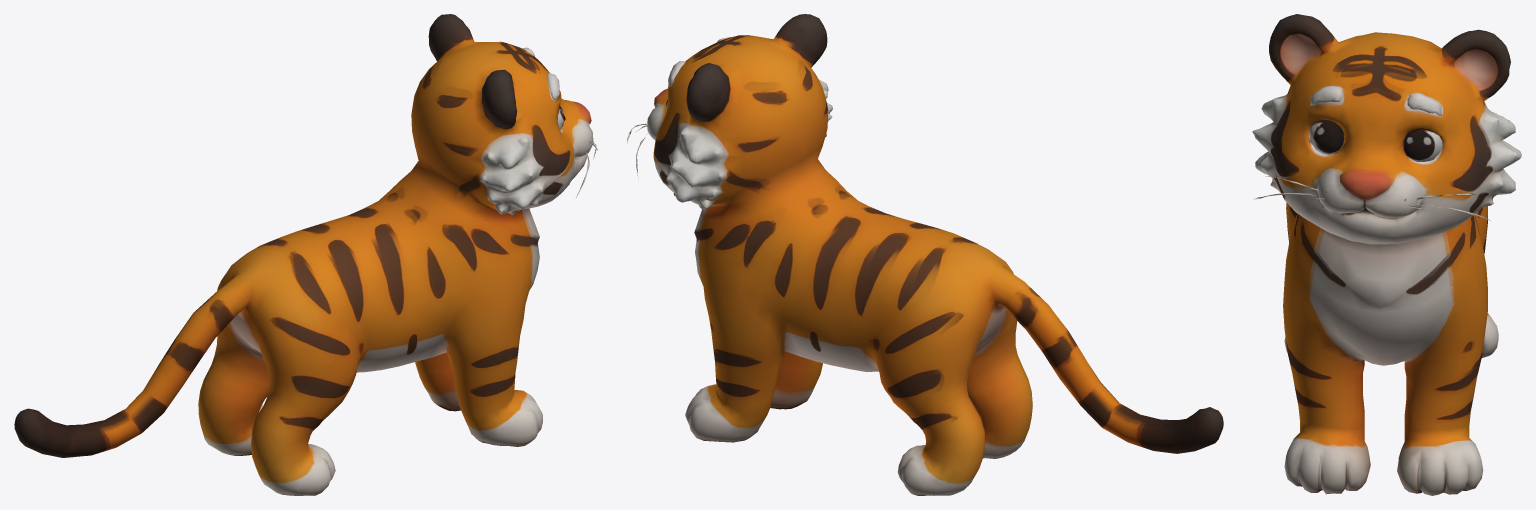
The model's file is tiger.glb.
3 renders of one model, left to right at view 1: azimuth 30°, elevation 25°; view 2: azimuth 150°, elevation 25°; view 3: azimuth 270°, elevation 25°, orthographic. The views are drawn at different scales.
Visible parts, largest first — view 1: tripo_node_8b918c4c-6e20-451d-a33a-19515f3ed9f3; view 2: tripo_node_8b918c4c-6e20-451d-a33a-19515f3ed9f3; view 3: tripo_node_8b918c4c-6e20-451d-a33a-19515f3ed9f3.
Boxes of the visible parts, left/top/right/bottom form: tripo_node_8b918c4c-6e20-451d-a33a-19515f3ed9f3: left=14, top=14, right=597, bottom=495; tripo_node_8b918c4c-6e20-451d-a33a-19515f3ed9f3: left=627, top=14, right=1223, bottom=495; tripo_node_8b918c4c-6e20-451d-a33a-19515f3ed9f3: left=1252, top=14, right=1521, bottom=495.
Size of the model in its own units: 0.998 by 0.6387 by 0.3418.
Materials: 1 (1 with a texture image).
